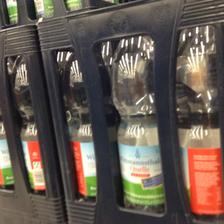water: (110, 33, 166, 213), (177, 27, 224, 222), (62, 48, 98, 201)
